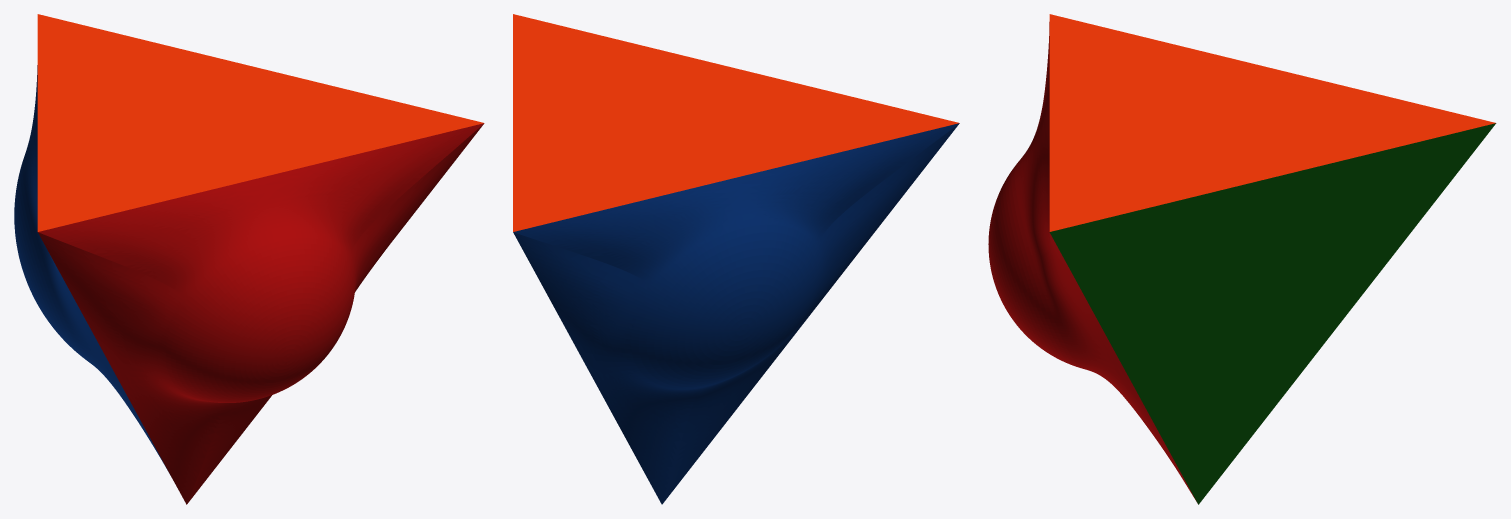
The model's file is 0_3_2_0_tetrahedron.obj.
3 views of the same model, side by side, from view 1: azimuth 30°, elevation 25°; view 2: azimuth 150°, elevation 25°; view 3: azimuth 270°, elevation 25° (orthographic).
Visible parts, largest first — view 1: Level_3_-_level_3_front_Level_3_-_level_3_front.001, Level_0_-_level_0_top, Level_2_-_level_2_left_Level_2_-_level_2_left.001; view 2: Level_2_-_level_2_left_Level_2_-_level_2_left.001, Level_0_-_level_0_top; view 3: Level_0_-_level_0_right, Level_0_-_level_0_top, Level_3_-_level_3_front_Level_3_-_level_3_front.001.
Boxes of the visible parts, left/top/right/bottom form: Level_3_-_level_3_front_Level_3_-_level_3_front.001: left=38, top=123, right=484, bottom=504; Level_0_-_level_0_top: left=37, top=14, right=483, bottom=231; Level_2_-_level_2_left_Level_2_-_level_2_left.001: left=14, top=65, right=171, bottom=477; Level_2_-_level_2_left_Level_2_-_level_2_left.001: left=513, top=123, right=959, bottom=504; Level_0_-_level_0_top: left=513, top=14, right=959, bottom=231; Level_0_-_level_0_right: left=1049, top=123, right=1496, bottom=504; Level_0_-_level_0_top: left=1049, top=14, right=1495, bottom=231; Level_3_-_level_3_front_Level_3_-_level_3_front.001: left=988, top=22, right=1197, bottom=503.
Size of the model in its own units: 0.1 by 0.0816 by 0.0984.
